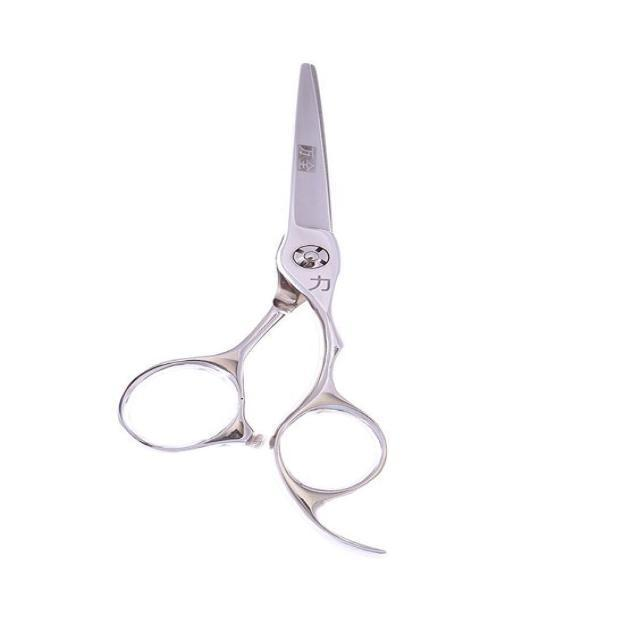scissor: (115, 60, 391, 558)
